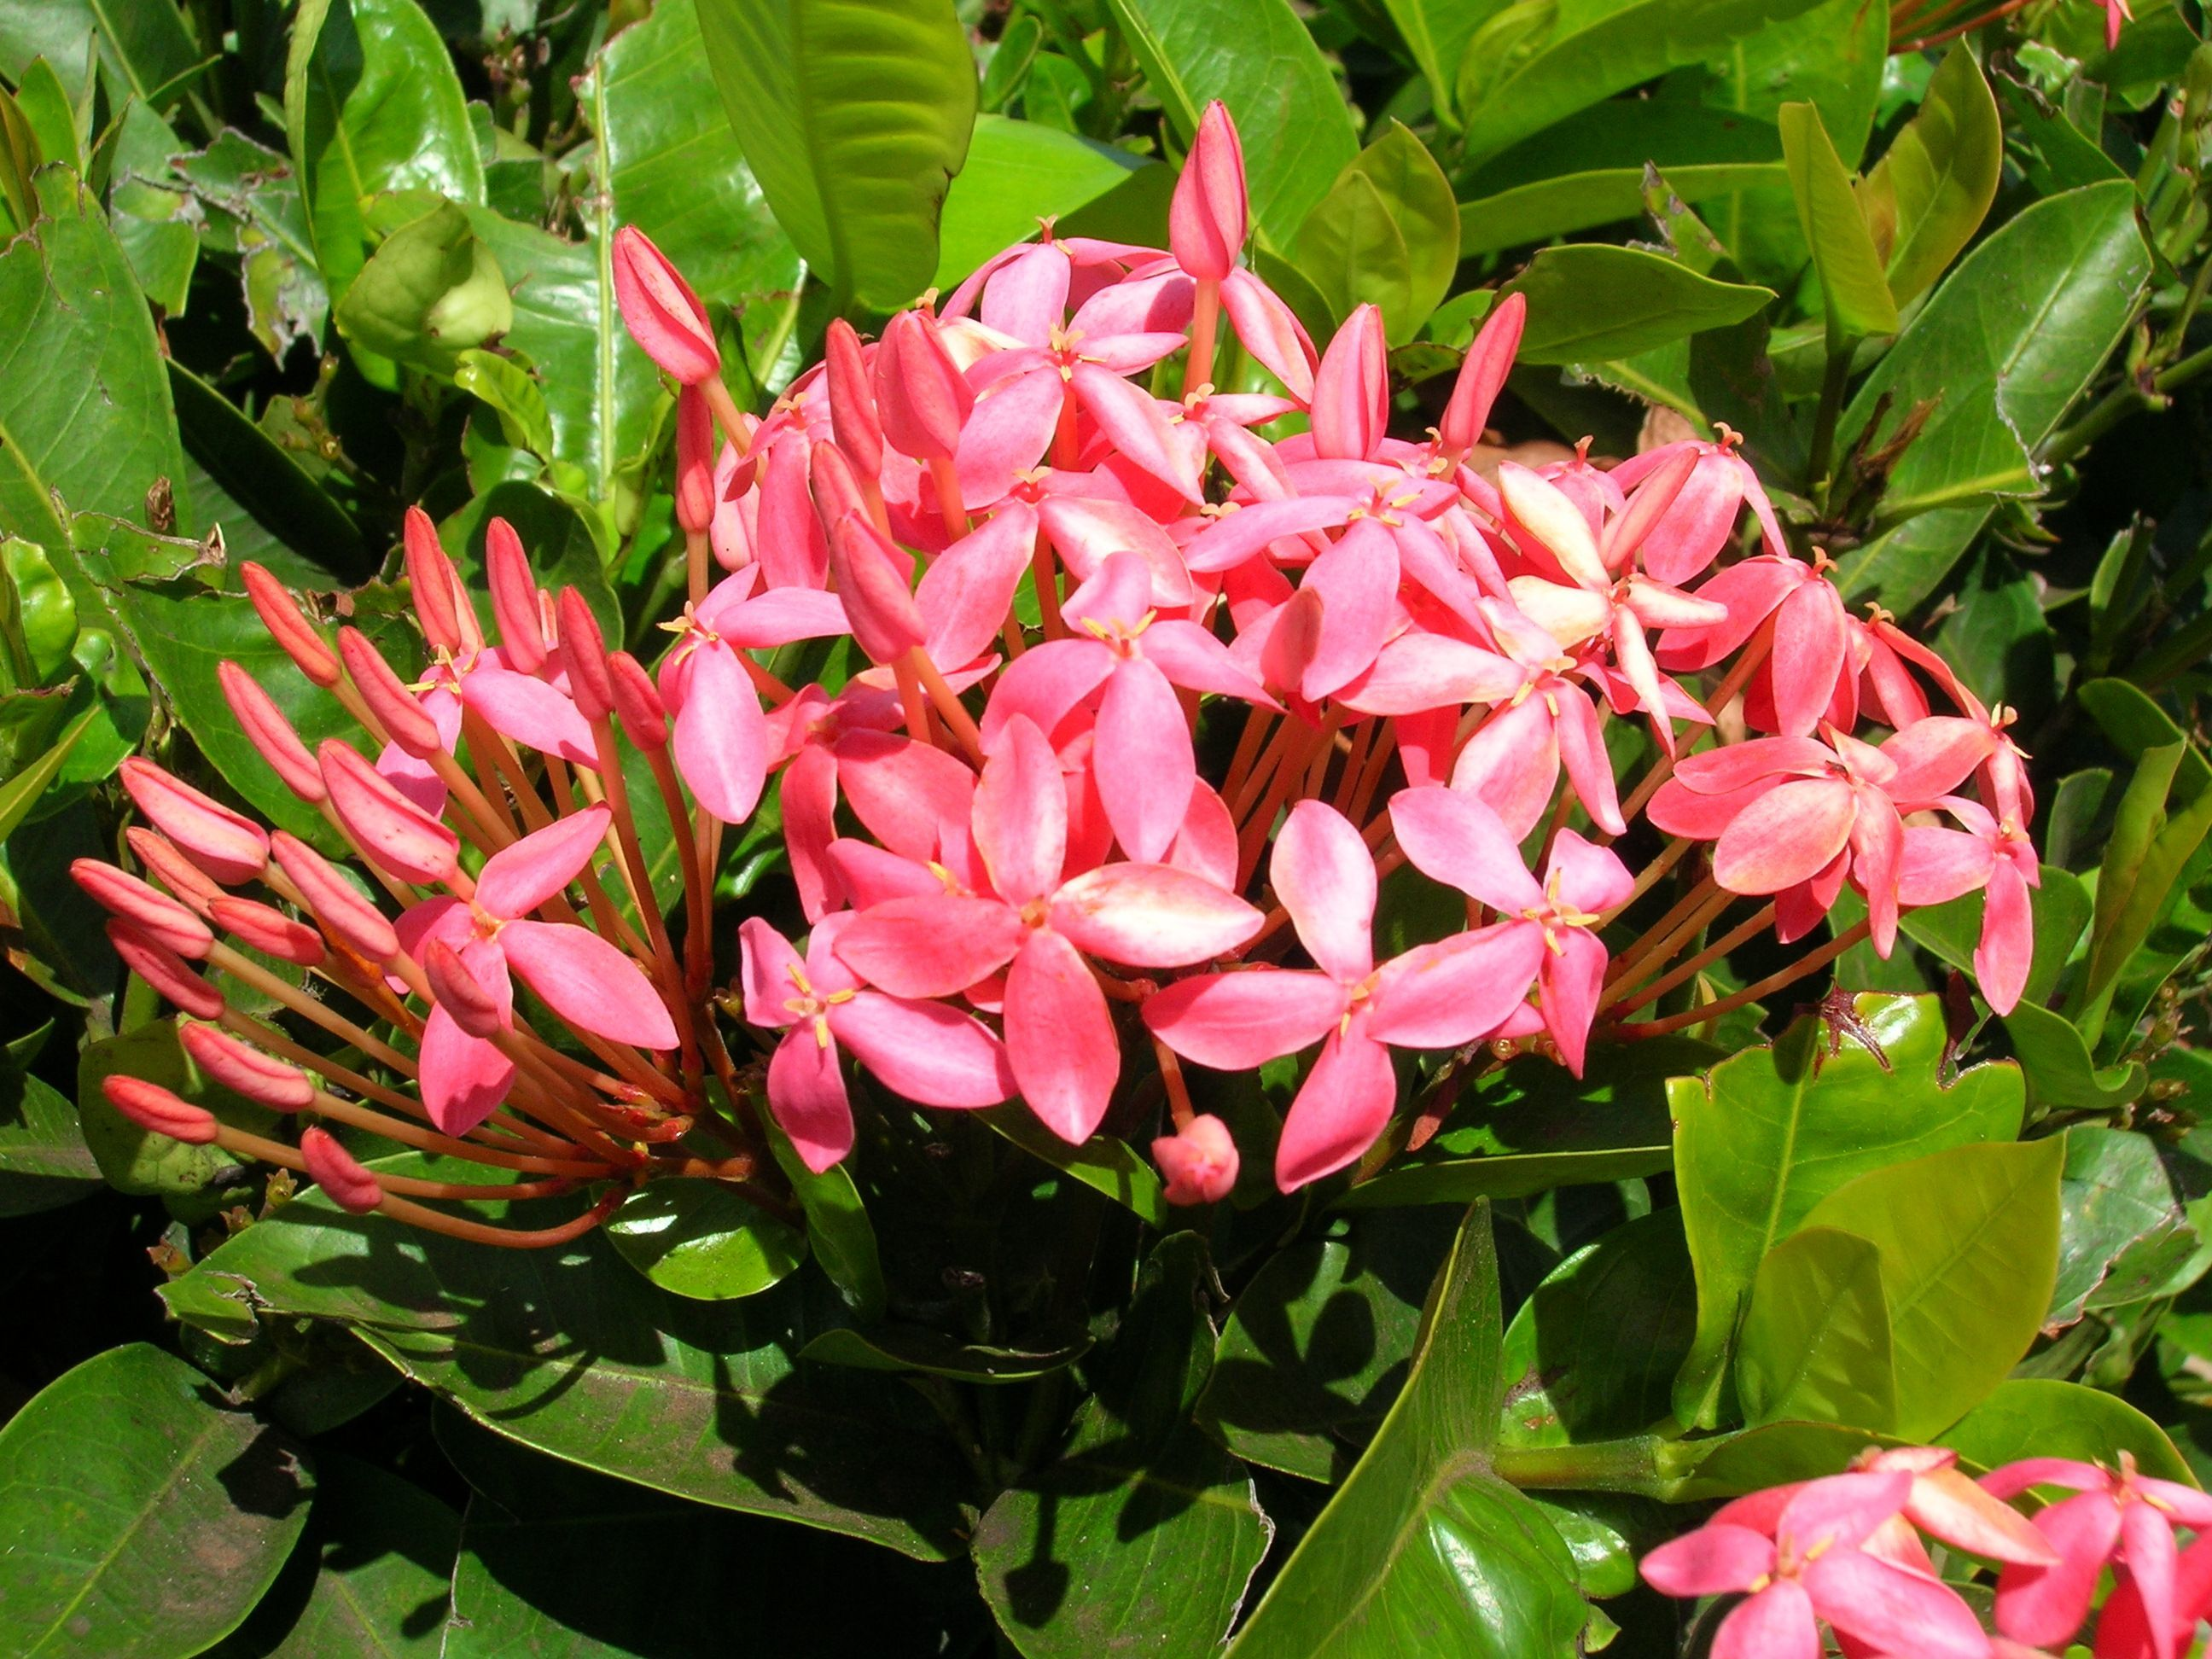ixora: (1172, 824, 1543, 1175), (892, 772, 1247, 1110), (998, 575, 1285, 845), (395, 831, 669, 1079), (1386, 786, 1608, 1060), (1505, 467, 1717, 746), (733, 934, 1001, 1150), (1627, 1499, 1977, 1659), (1197, 486, 1489, 662), (1691, 728, 1897, 945), (664, 572, 838, 805), (972, 336, 1198, 511), (1892, 758, 2045, 1004), (387, 645, 582, 788)
